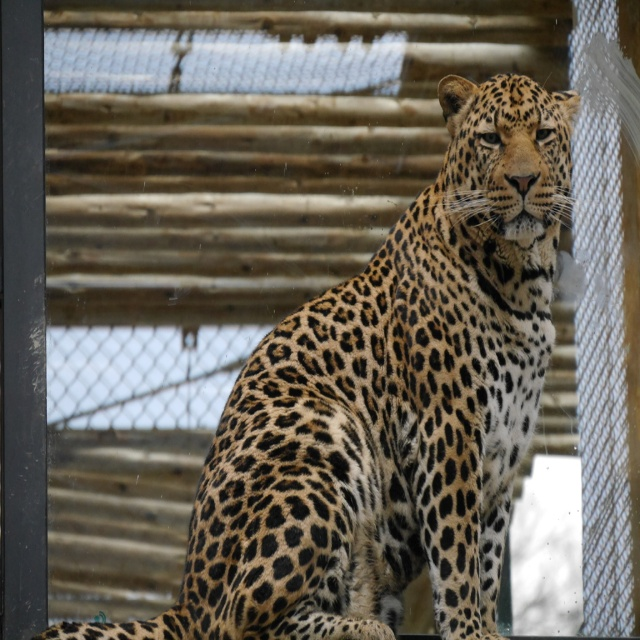Jaguar: (32, 73, 583, 639)
